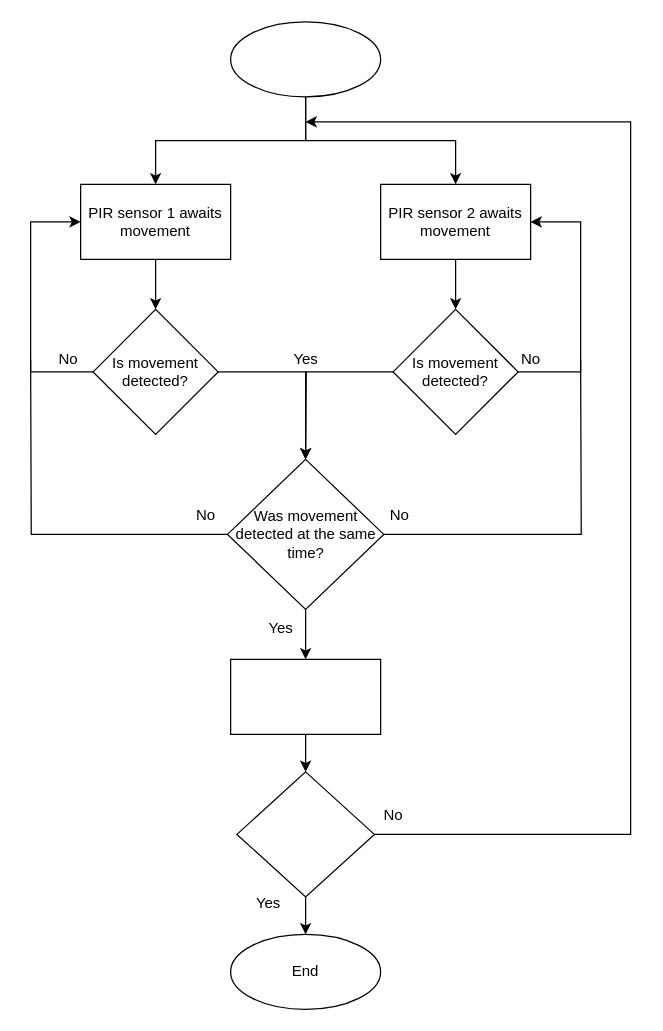
The diagram is 663 pixels wide and 1031 high, and some of its shapes have lost their labels. The shapes that lost their labels are listed below. From the top down, each one's box as (x1, y1, x2, y2) in pixels, then its label:
(229, 21, 381, 97): Start
(229, 658, 381, 734): Camera clips footage and uploads to database
(236, 771, 374, 897): Is program terminated?
